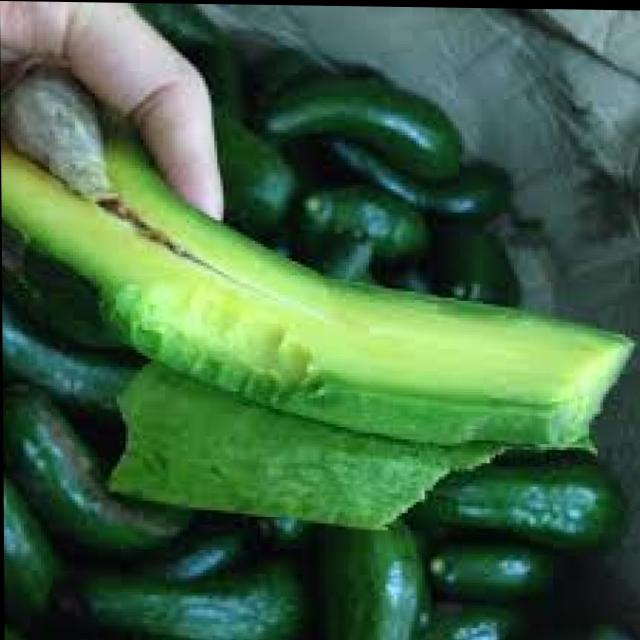Bo: (3, 45, 638, 540)
